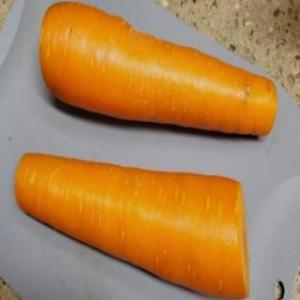carrot: (13, 150, 250, 300), (38, 2, 276, 140)
